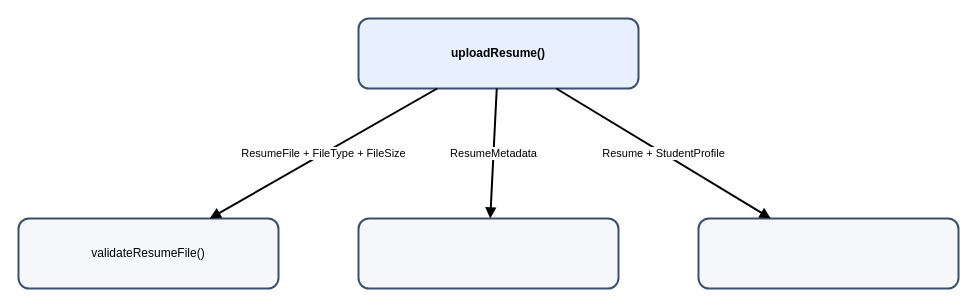
This 976x306 diagram has some shape labels left out. The shapes that lost their labels are listed below. From the top down, each one's centre as x and y in pixels, then its label:
At pixel 488 253: "saveResumeMetadata()".
At pixel 828 253: "linkResumeToProfile()".
